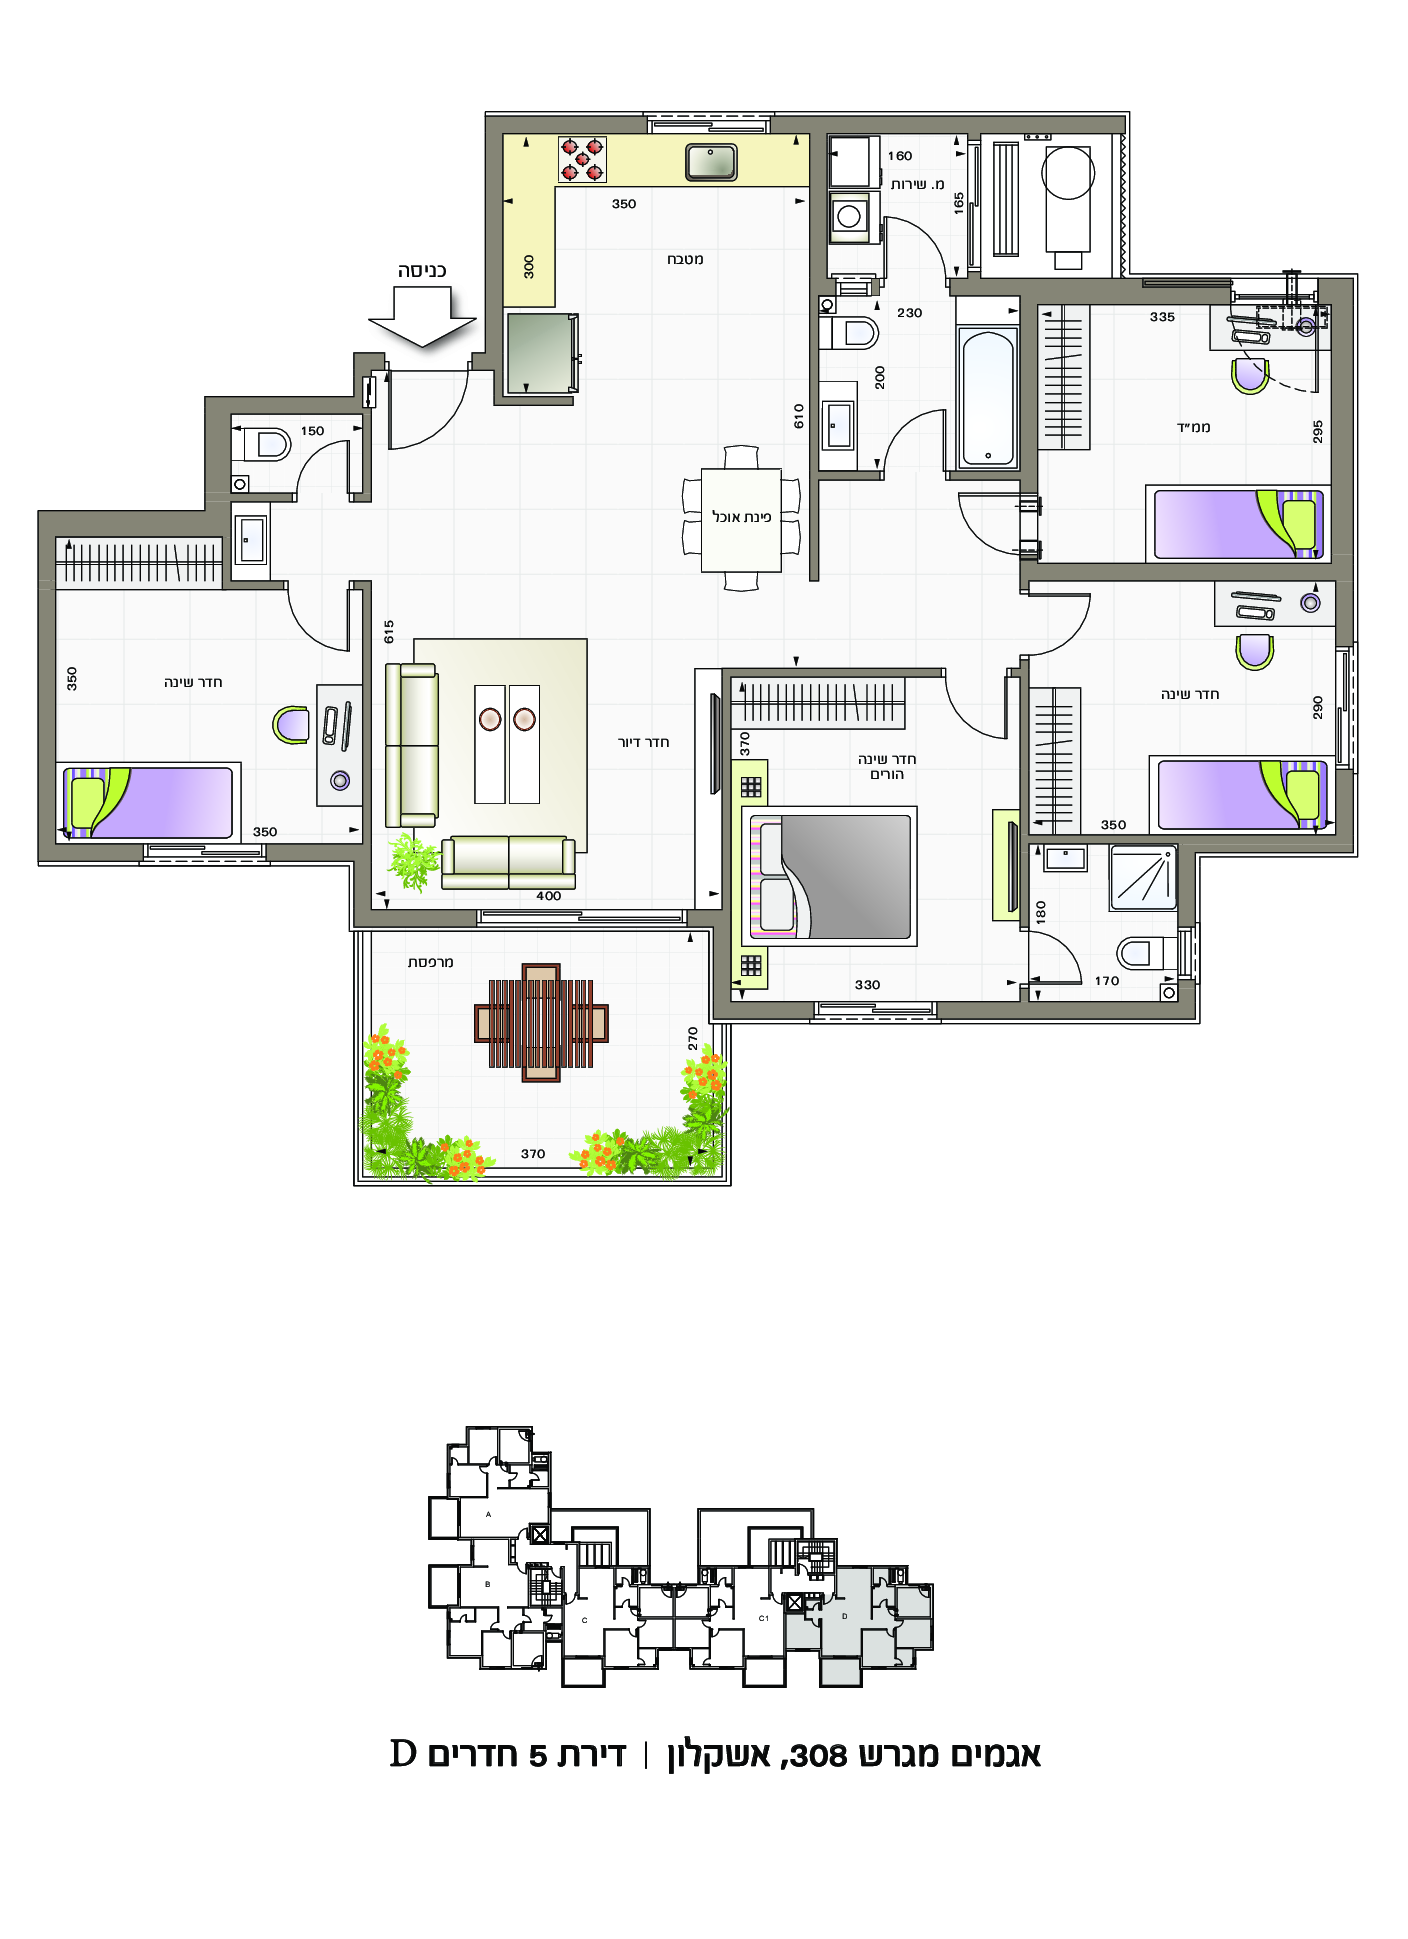door: (384, 385, 473, 462), (268, 598, 357, 659), (934, 683, 1012, 747), (953, 485, 1010, 571), (1039, 589, 1096, 656), (882, 209, 944, 269), (884, 403, 949, 459), (1035, 927, 1087, 991), (301, 438, 354, 485)
wall: (1336, 280, 1354, 625), (1032, 565, 1333, 580), (39, 518, 53, 833), (791, 119, 1110, 131), (486, 120, 500, 358), (1021, 280, 1036, 486), (1021, 279, 1138, 301), (62, 513, 221, 530), (946, 1006, 1188, 1016), (208, 403, 230, 492), (494, 119, 642, 132), (813, 120, 824, 294), (714, 915, 730, 1019), (1339, 775, 1352, 839)
window: (476, 903, 688, 938), (142, 837, 267, 875), (813, 997, 938, 1033), (1330, 646, 1366, 769), (648, 105, 771, 142), (962, 138, 988, 272), (1173, 924, 1205, 979)
